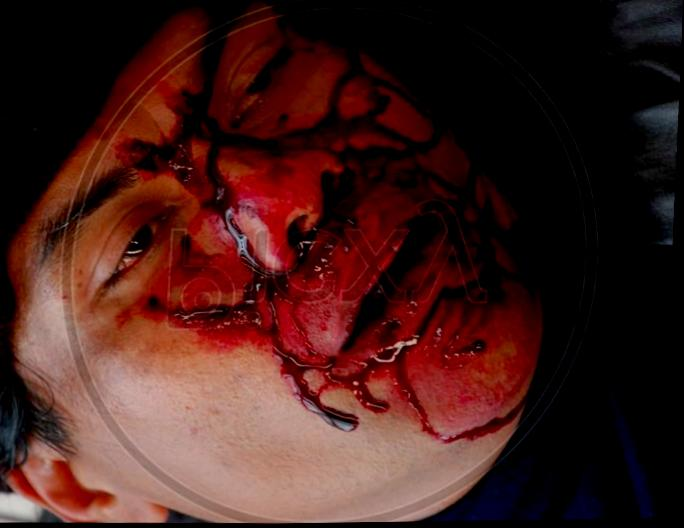Fire: (118, 72, 545, 445)
